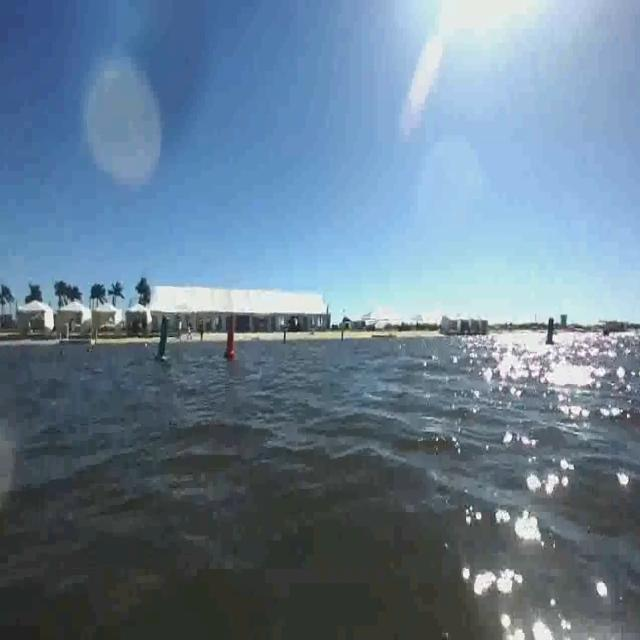green-column-buoy: (156, 316, 174, 364)
red-column-buoy: (222, 316, 238, 360)
